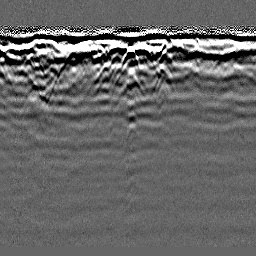cavity: (119, 44, 140, 67)
